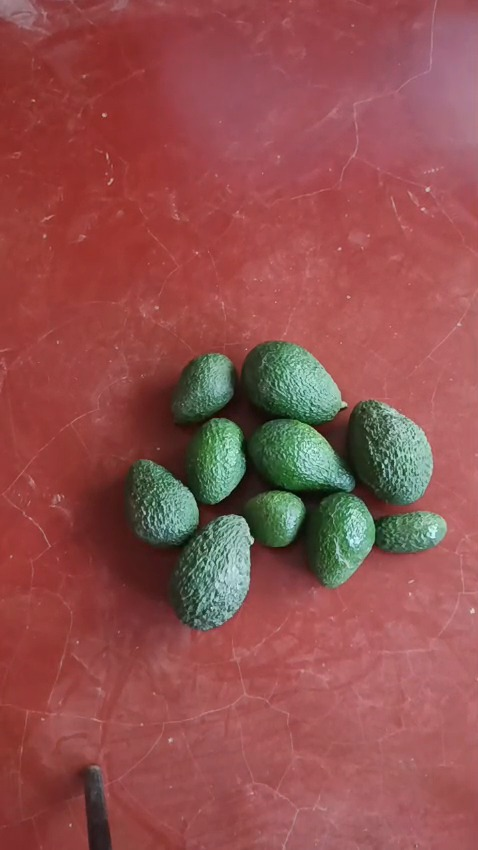Primera: (169, 514, 255, 629), (347, 399, 434, 504), (240, 340, 342, 424), (247, 418, 357, 494), (124, 459, 198, 548)
Segunda: (304, 491, 375, 587), (183, 417, 247, 504)
Tercera: (170, 352, 236, 425), (241, 488, 305, 547), (371, 510, 447, 554)
